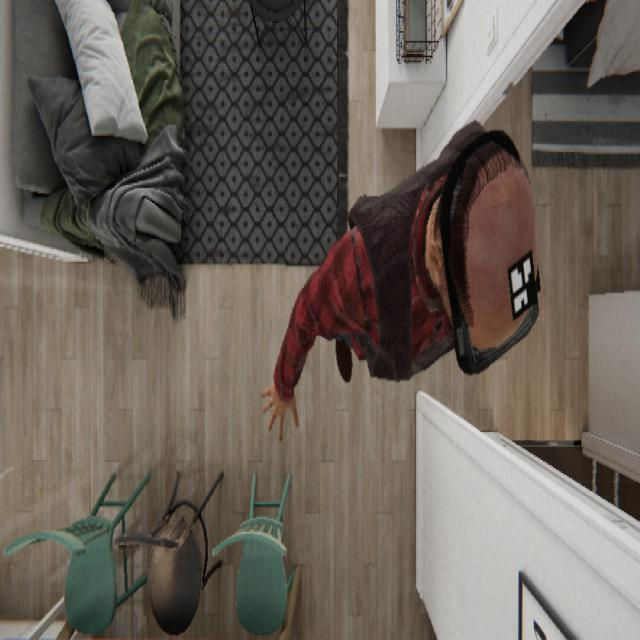AruCO: (506, 245, 540, 321)
Human: (261, 120, 541, 440)
